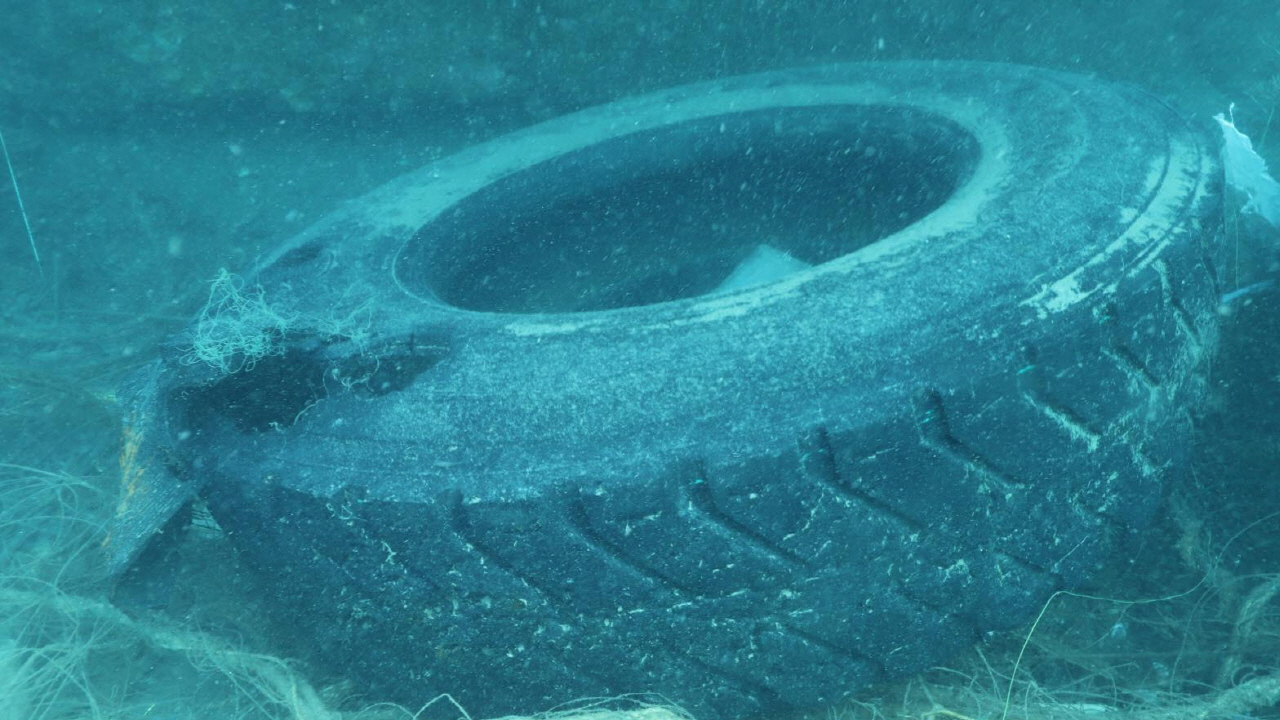tire: (157, 49, 1237, 712)
